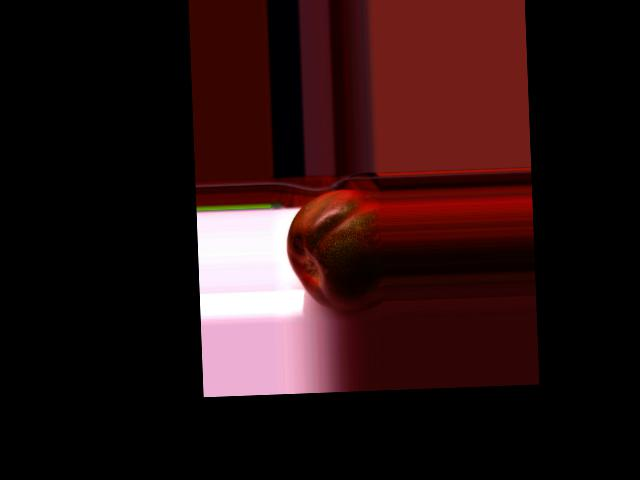tomato: (285, 187, 384, 313)
